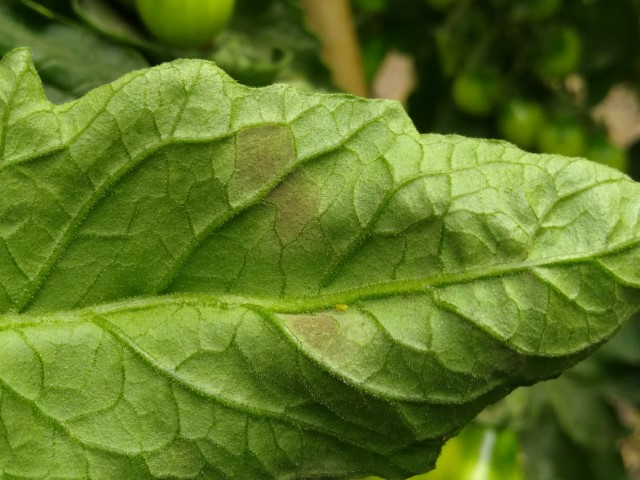cladosporium: (224, 126, 332, 247), (274, 310, 348, 362)
